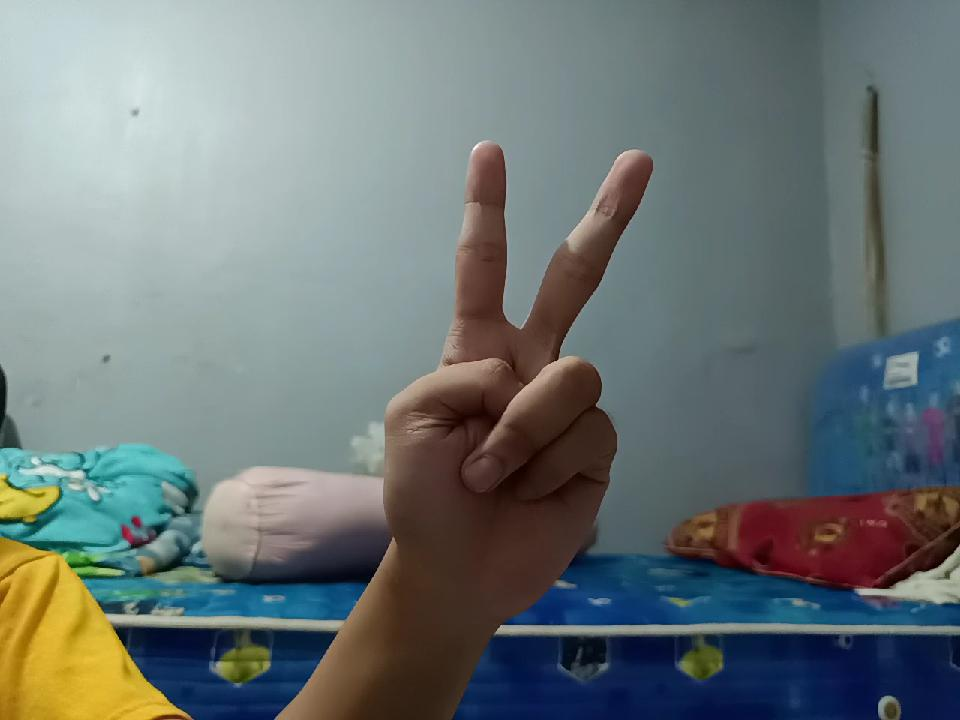scissors: (385, 120, 624, 629)
